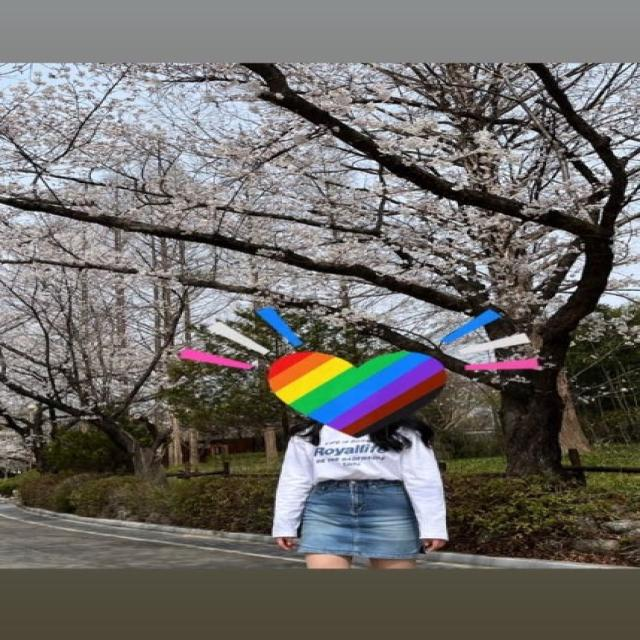longsleeve: (276, 423, 455, 542)
skirt: (295, 478, 422, 559)
